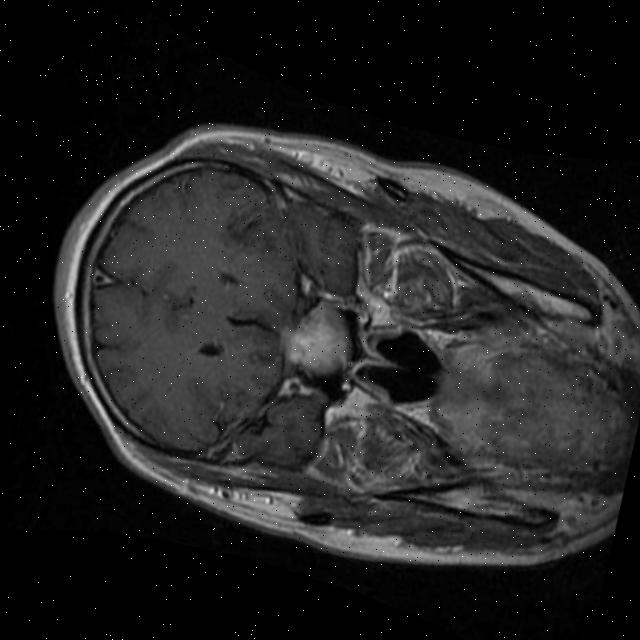Pituitary: (274, 292, 361, 381)
